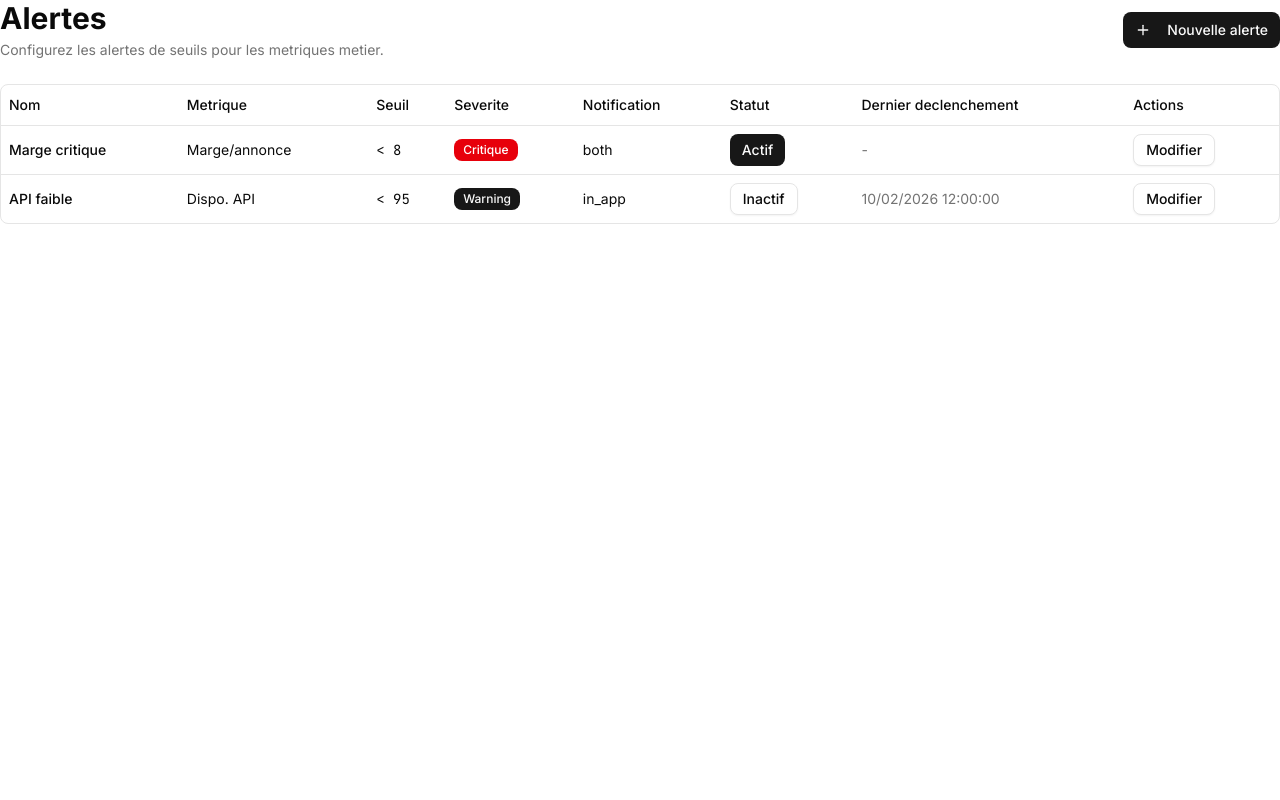
Test: AlertsConfigPage › should open edit dialog when edit button clicked
What coordinates should you click on to do the following:
click the button with test id "alert-edit-a1"
I would click on:
 (1174, 150)
Its box is [1133,134,1215,166].
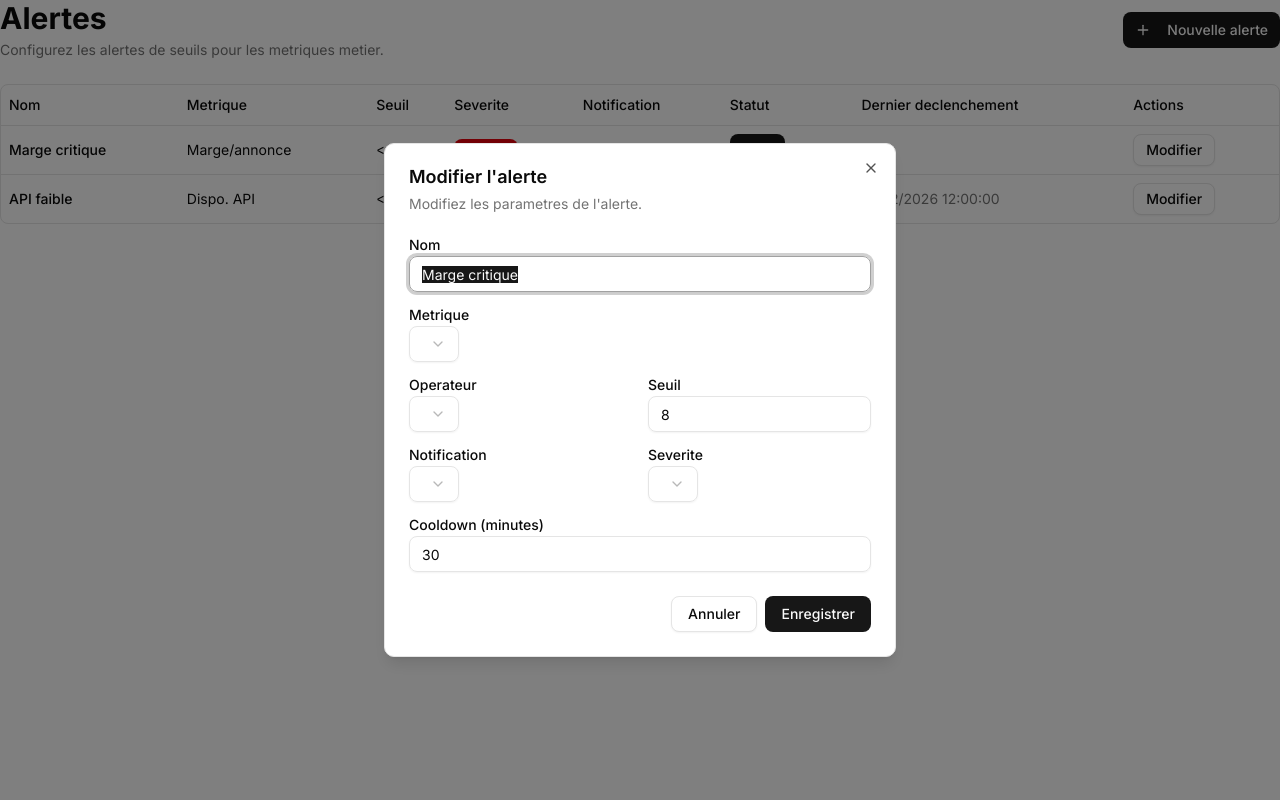
Expected: the heading "Modifier l'alerte" is shown, [409,166,547,187]
